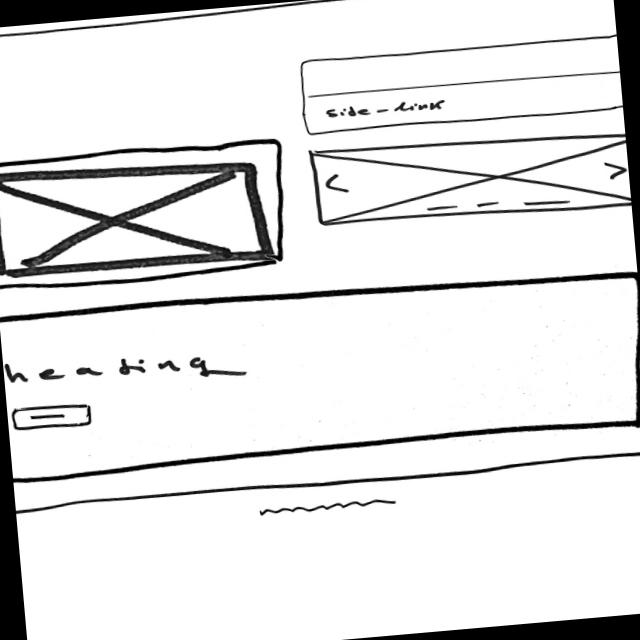container: (0, 259, 640, 483), (0, 135, 294, 295), (295, 31, 623, 138), (0, 0, 611, 39)
icon-button: (10, 401, 94, 432)
image: (307, 122, 631, 233), (0, 149, 271, 281)
label: (2, 342, 246, 396), (321, 96, 447, 120)
text: (254, 494, 401, 520)
